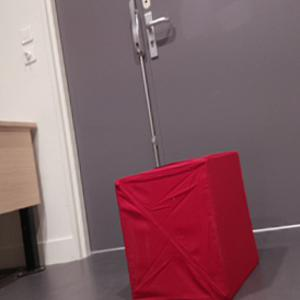medium: (111, 150, 264, 300)
